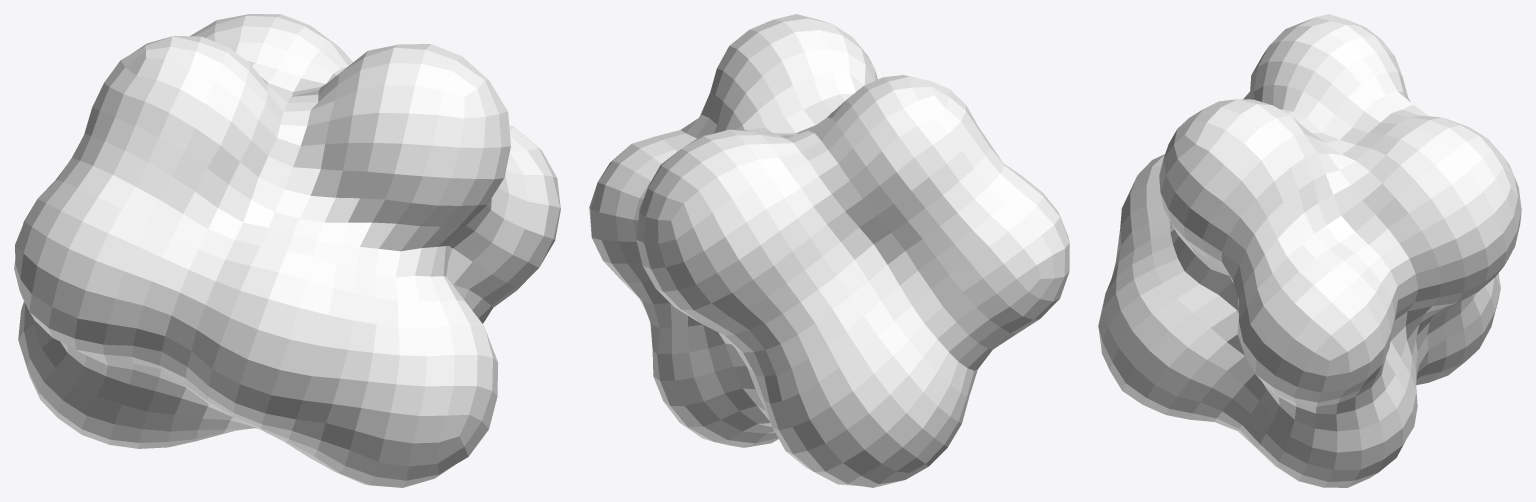
File: environment_cloud.fbx
3 renders of one model, left to right at view 1: azimuth 30°, elevation 25°; view 2: azimuth 150°, elevation 25°; view 3: azimuth 270°, elevation 25°, orthographic. The views are drawn at different scales.
Parts seen in each view (by area): view 1: Mball.002; view 2: Mball.002; view 3: Mball.002.
Part boxes in pixels (x1,y1,x2,y2): Mball.002: (14,14,560,487); Mball.002: (589,14,1069,487); Mball.002: (1098,14,1521,487).
Bounding box in the file's own units: 781 × 644 × 652.
